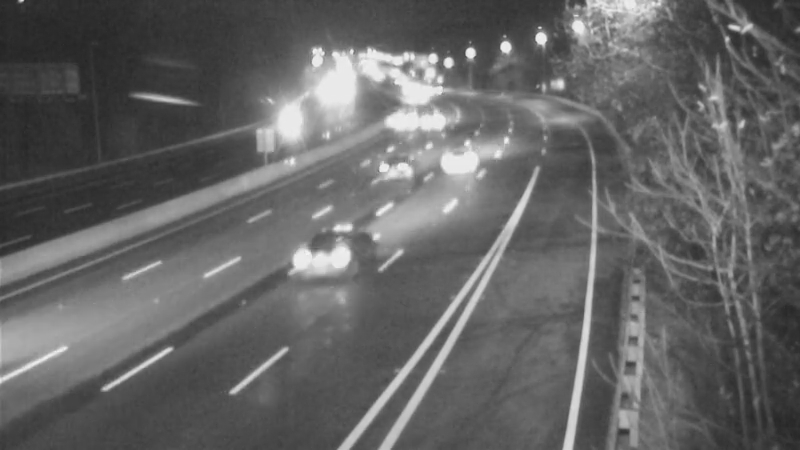vehicle: (356, 122, 436, 202), (416, 121, 496, 201), (290, 219, 370, 299), (407, 89, 457, 139), (377, 97, 427, 147), (247, 104, 297, 154)
